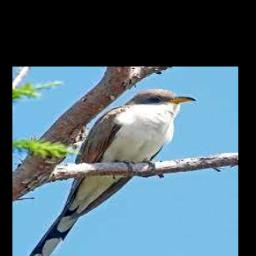Cuckoo: (23, 88, 198, 256)
